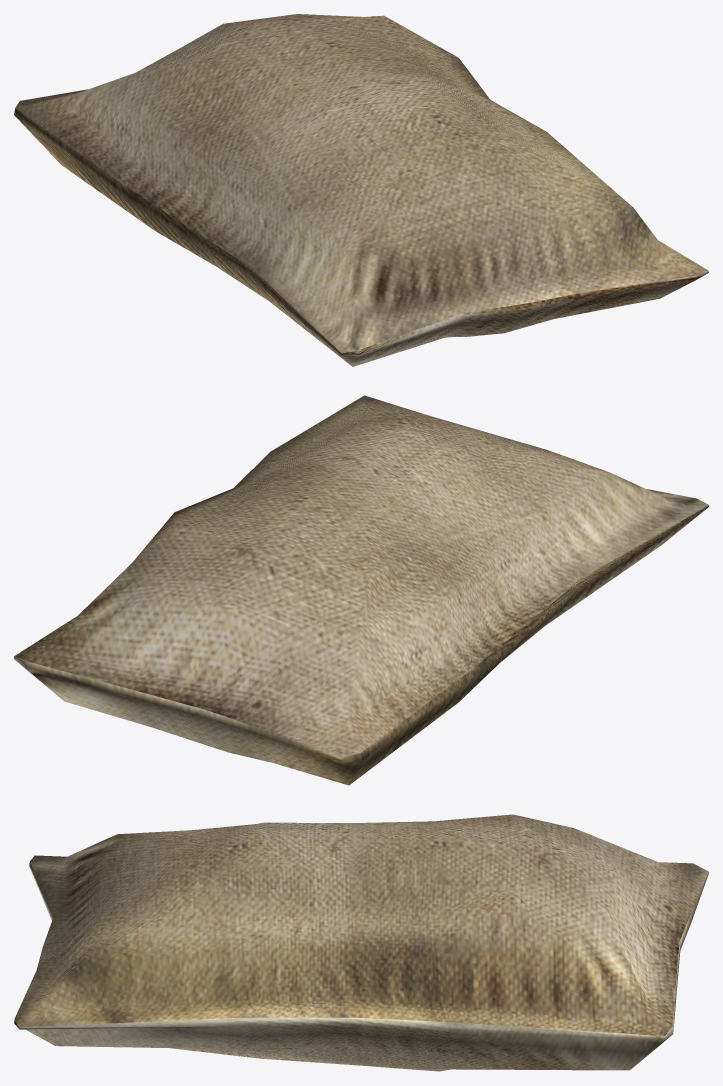
The model's file is sandbag02.FBX.
3 views of the same model, one above another, from view 1: azimuth 30°, elevation 25°; view 2: azimuth 150°, elevation 25°; view 3: azimuth 270°, elevation 25° (orthographic). The views are drawn at different scales.
Visible parts, largest first — view 1: sandbag02; view 2: sandbag02; view 3: sandbag02.
Boxes of the visible parts, bbox=[...] form: sandbag02: bbox=[14, 14, 708, 366]; sandbag02: bbox=[14, 395, 708, 785]; sandbag02: bbox=[14, 814, 708, 1071].
Bounding box in the file's own units: 98.99 × 57.77 × 165.
1 material, 1 textured.
